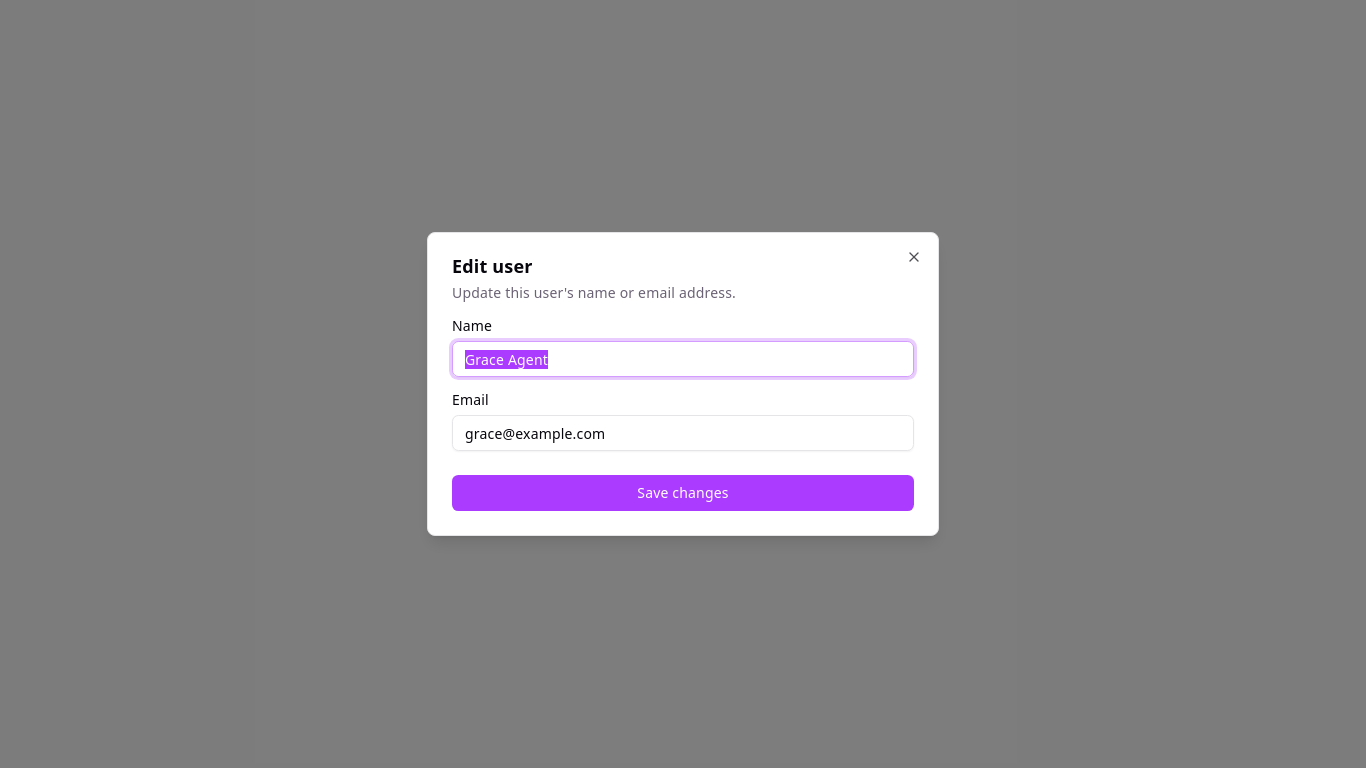
Scenario: UserFormDialog (edit) › discards edits when closed
The width and height of the screenshot is (1366, 768).
Replace the text in the field labelled "Name" with "Typed But Discarded" at (683, 359), box [452,341,914,377]
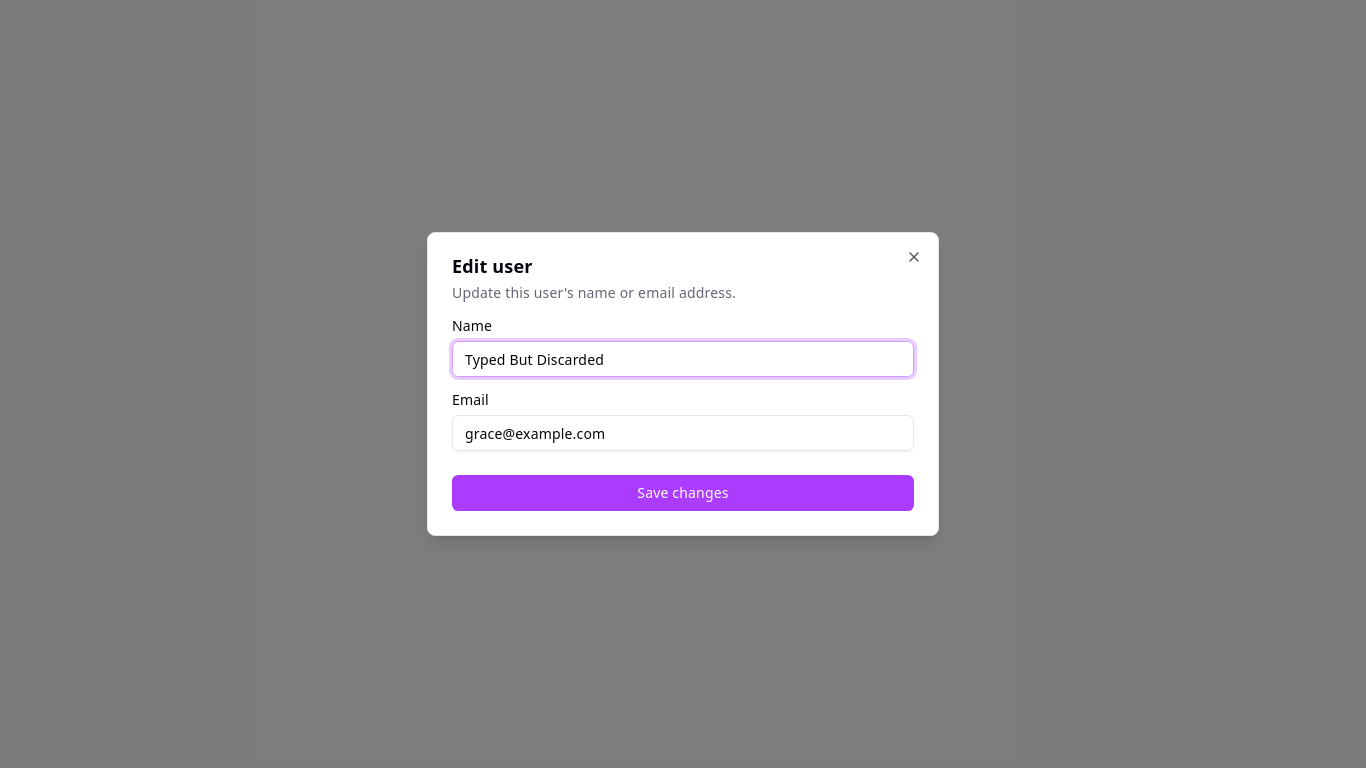
Replace the text in the field labelled "Email" with "x@example.com" at (683, 433), box [452,415,914,451]
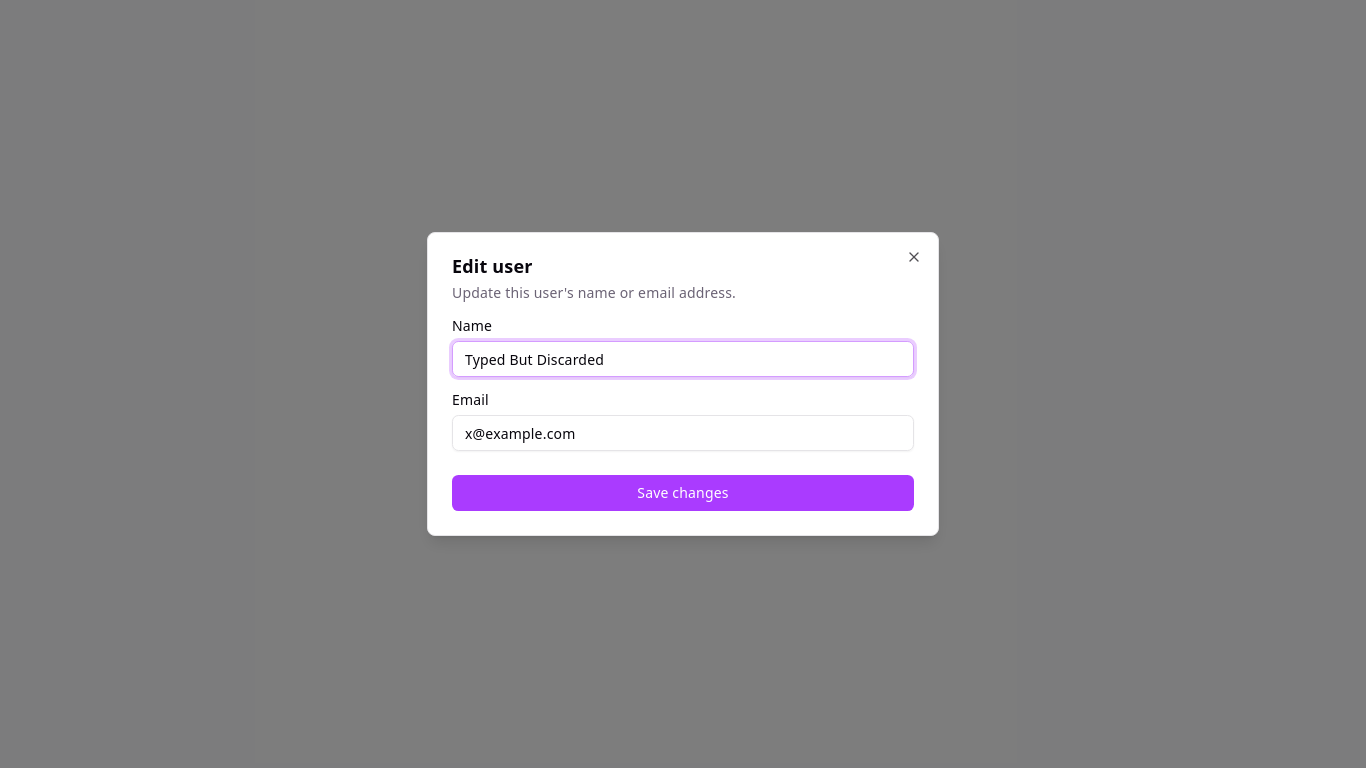
Click the button named "Close" at (914, 257), box [906,249,922,265]
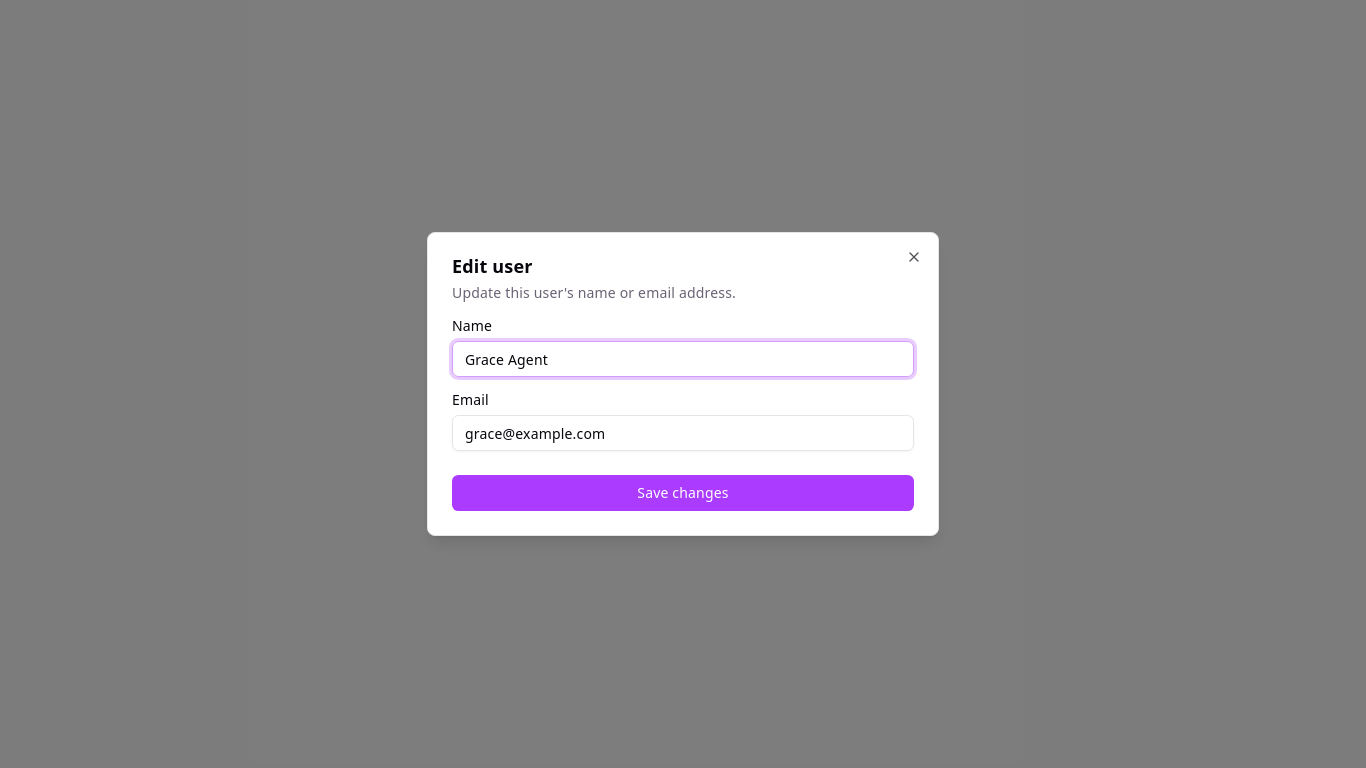
Expected: the field labelled "Name" holds "Grace Agent", [452,341,914,377]
Expected: the field labelled "Email" holds "grace@example.com", [452,415,914,451]
